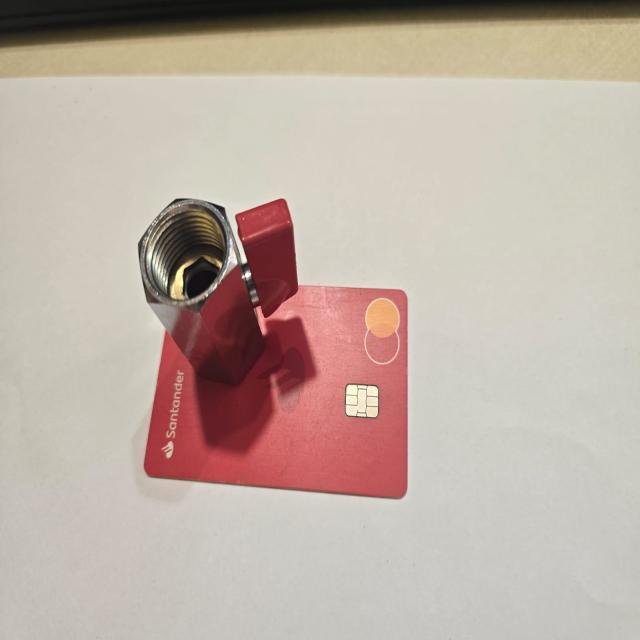cartao: (133, 165, 422, 523)
rosca_interna: (139, 180, 307, 407)
